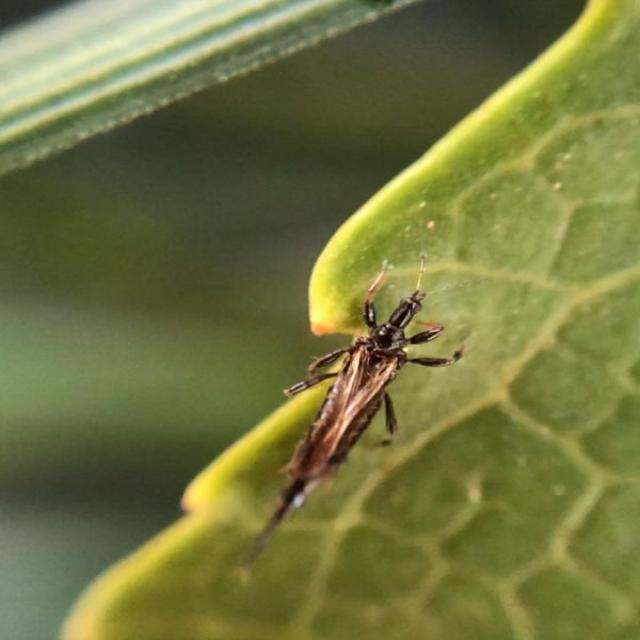Thrip-Adult-: (222, 267, 480, 568)
